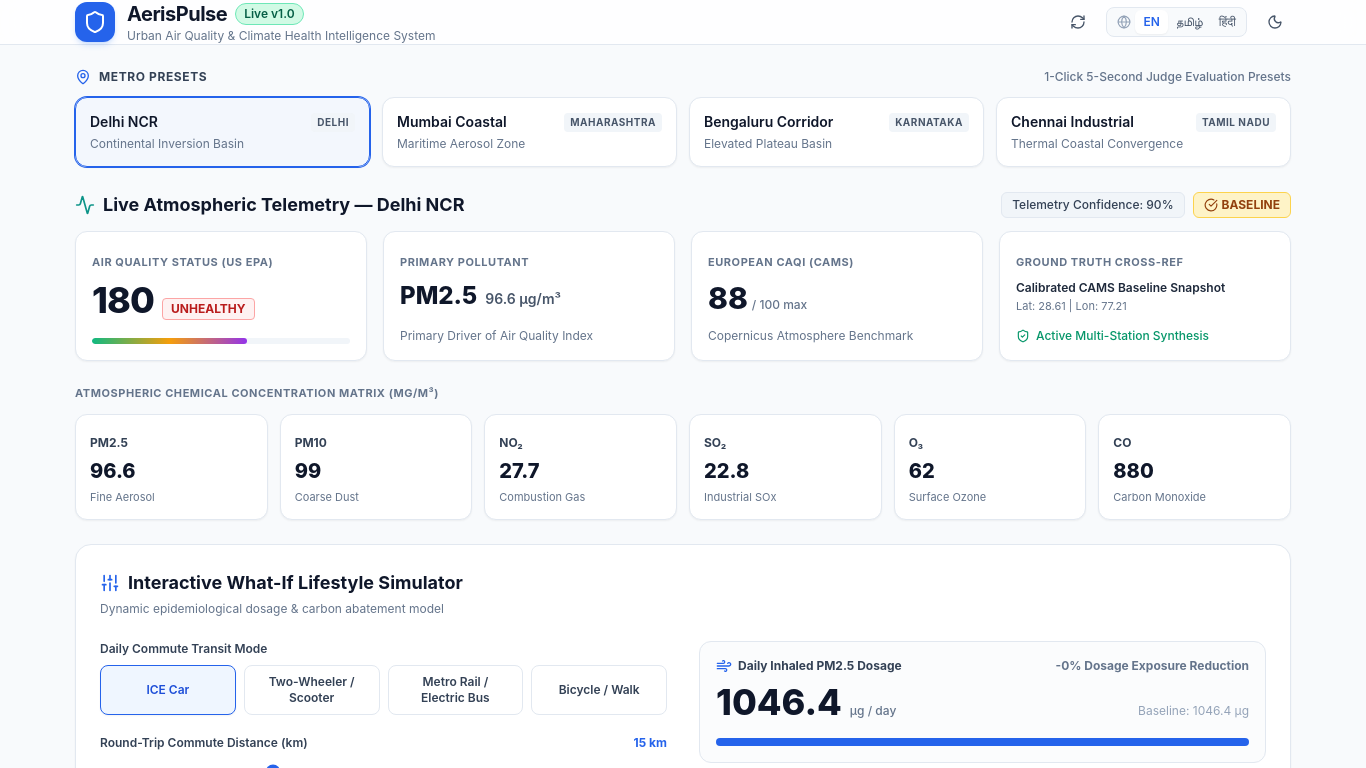
Scenario: Home Page Full Integration Suite › toggles lifestyle inputs and re-computes mathematical outputs synchronously
Click Metro Rail / Electric Bus
Click the button "Metro Rail / Electric Bus": (455, 690) [388, 665, 523, 715]
(page scrolled)
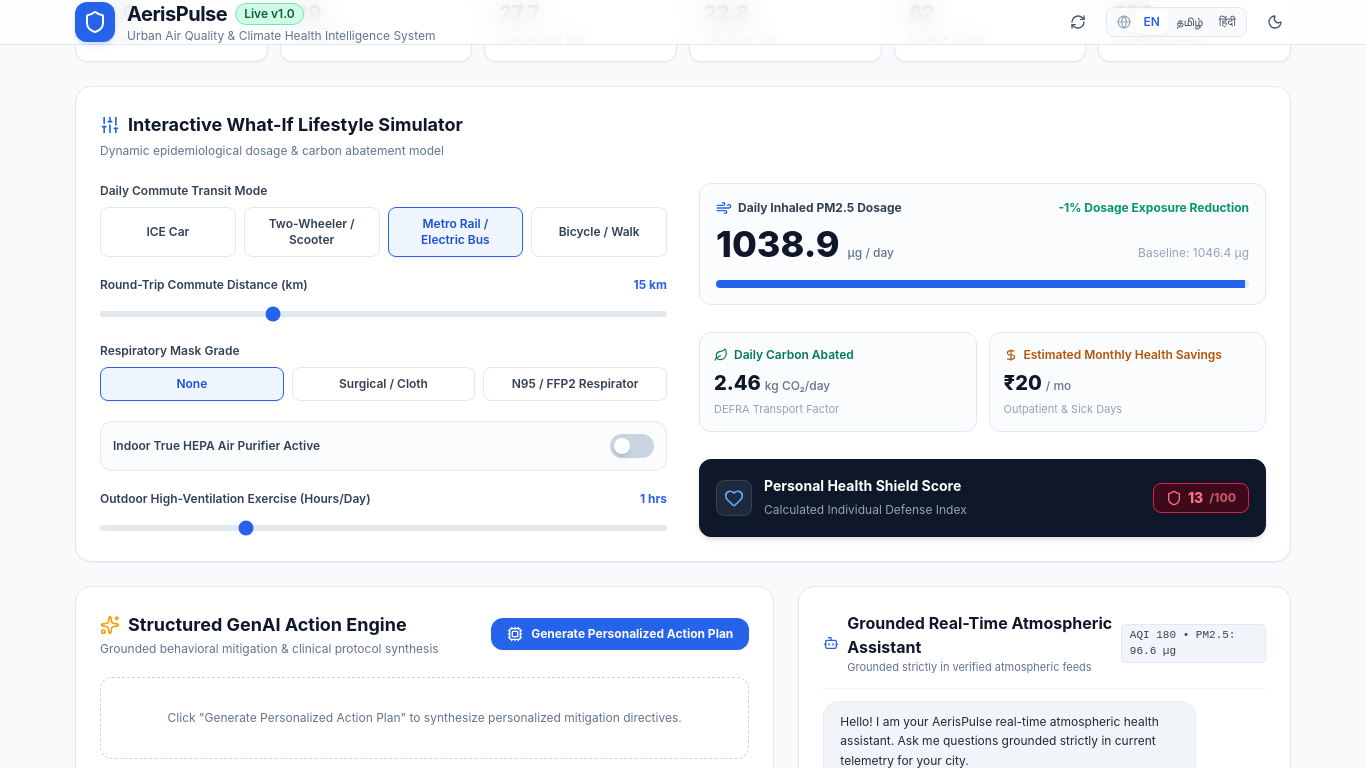
Click N95 / FFP2 Respirator
Click the button "N95 / FFP2 Respirator": (575, 384) [483, 367, 667, 401]
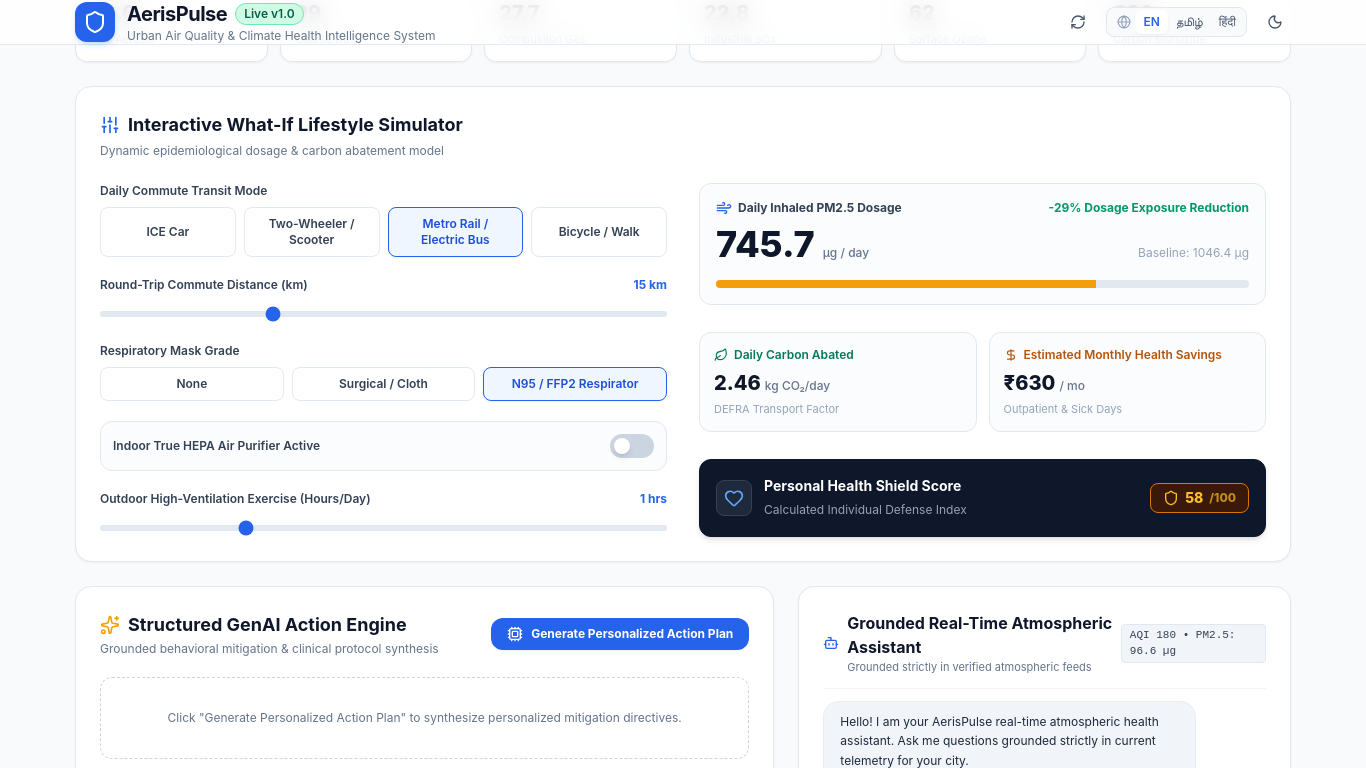
Toggle Indoor True HEPA Purifier
Click the switch: (632, 446) [610, 434, 654, 458]
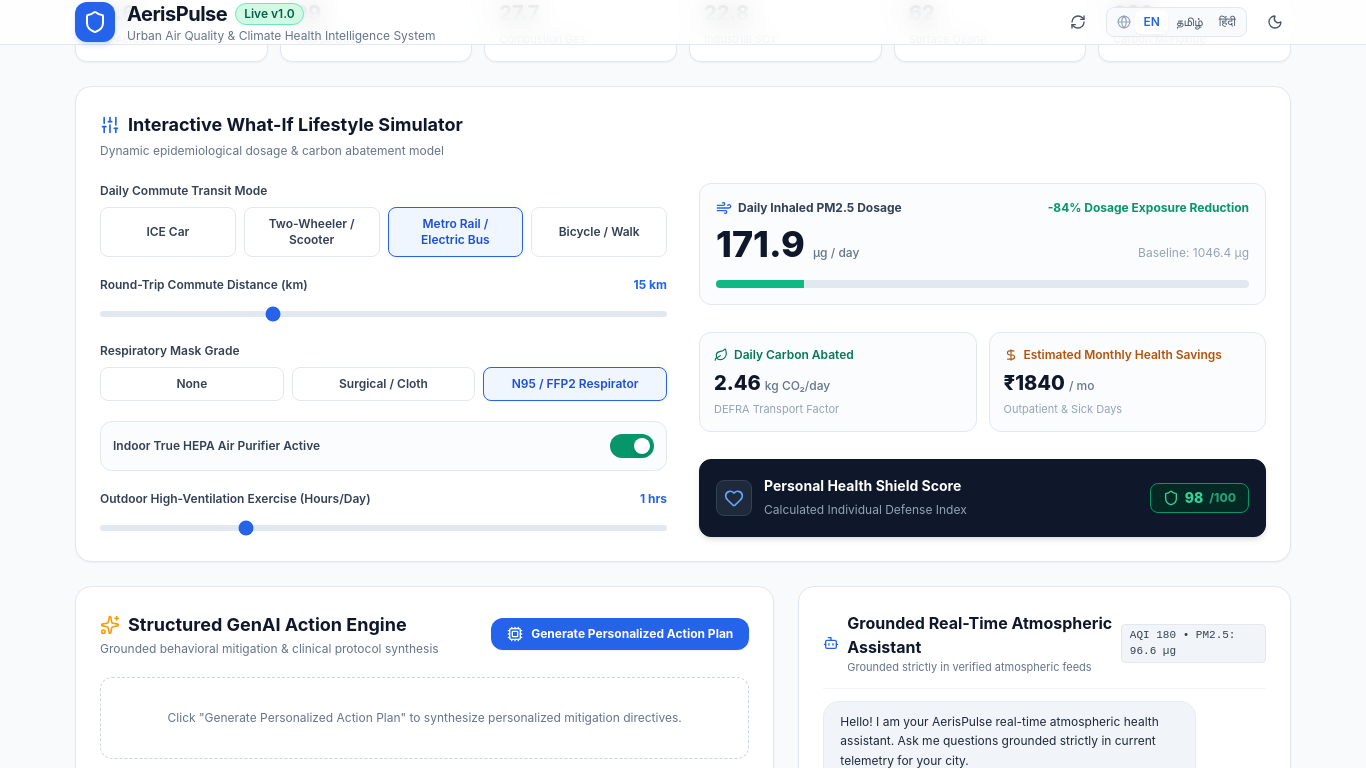
Result: the text "2.46" is shown at [714, 369, 761, 397]
Result: the text "98" is shown at [1185, 488, 1203, 508]
